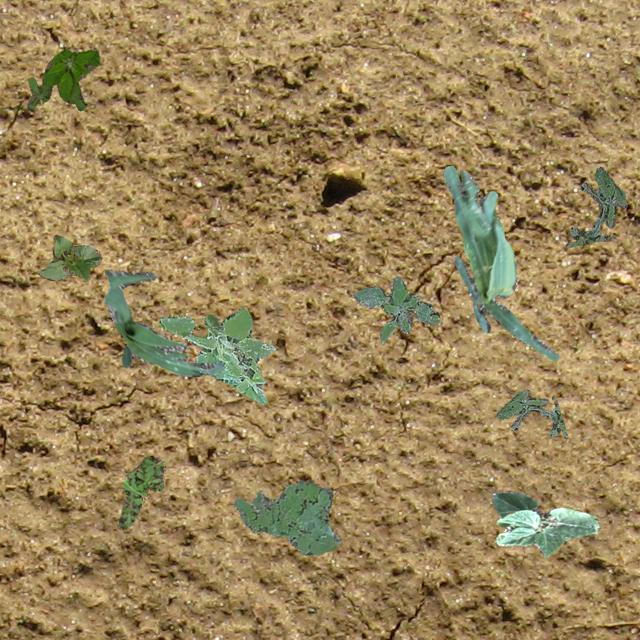crop: (442, 165, 558, 359), (102, 268, 222, 376), (492, 490, 598, 556), (36, 233, 101, 280)
weed: (158, 306, 274, 404), (232, 480, 340, 554), (352, 274, 438, 342), (564, 165, 626, 248), (26, 48, 98, 110), (116, 454, 164, 528), (496, 388, 566, 438)
